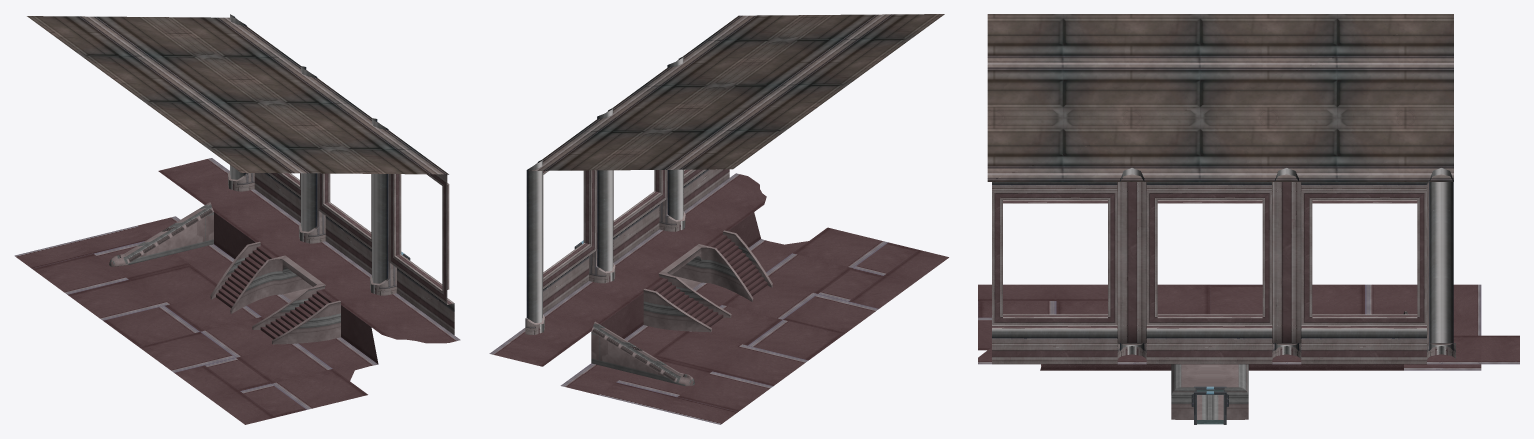
Rendered from Cor1_bldg_Grand_hall_1.fbx.
3 views of the same model, side by side, from view 1: azimuth 30°, elevation 25°; view 2: azimuth 150°, elevation 25°; view 3: azimuth 270°, elevation 25° (orthographic). The views are drawn at different scales.
Parts seen in each view (by area): view 1: grand_hall5, polymsh_detached154, polymsh1311, polymsh1367, polymsh1385, polymsh1378, polymsh1386; view 2: grand_hall5, polymsh_detached154, polymsh1311, polymsh1367, polymsh1385, polymsh1386, polymsh1378; view 3: polymsh_detached154, polymsh1311, grand_hall5, polymsh1367.
Part boxes in pixels (left/top/right/bottom): grand_hall5: left=14, top=158, right=460, bottom=424; polymsh_detached154: left=27, top=16, right=448, bottom=174; polymsh1311: left=228, top=14, right=454, bottom=334; polymsh1367: left=210, top=241, right=407, bottom=344; polymsh1385: left=109, top=202, right=213, bottom=266; polymsh1378: left=216, top=246, right=275, bottom=308; polymsh1386: left=260, top=290, right=335, bottom=339; grand_hall5: left=489, top=173, right=948, bottom=424; polymsh_detached154: left=527, top=14, right=944, bottom=170; polymsh1311: left=525, top=56, right=729, bottom=334; polymsh1367: left=577, top=230, right=772, bottom=332; polymsh1385: left=591, top=321, right=694, bottom=386; polymsh1386: left=708, top=235, right=767, bottom=296; polymsh1378: left=648, top=278, right=723, bottom=326; polymsh_detached154: left=987, top=14, right=1453, bottom=181; polymsh1311: left=992, top=168, right=1455, bottom=364; grand_hall5: left=978, top=284, right=1519, bottom=370; polymsh1367: left=1171, top=364, right=1248, bottom=419.
Size of what is drawn, in the model's own units: 3431 by 3088 by 5600.
